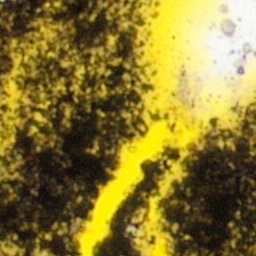cement_matrix: (0, 0, 141, 255), (161, 109, 255, 255), (95, 149, 177, 255), (75, 66, 84, 78), (107, 37, 115, 47), (35, 114, 43, 122), (0, 105, 3, 124), (40, 98, 45, 103), (56, 84, 60, 89), (95, 51, 99, 56)
cracks: (74, 0, 255, 255), (0, 23, 57, 154), (3, 246, 14, 255), (76, 67, 83, 77), (108, 38, 114, 46), (36, 115, 42, 121), (38, 251, 43, 255), (41, 99, 44, 102), (57, 85, 59, 88), (96, 52, 98, 55)
gravel_crushed_stones: (186, 0, 255, 98)
